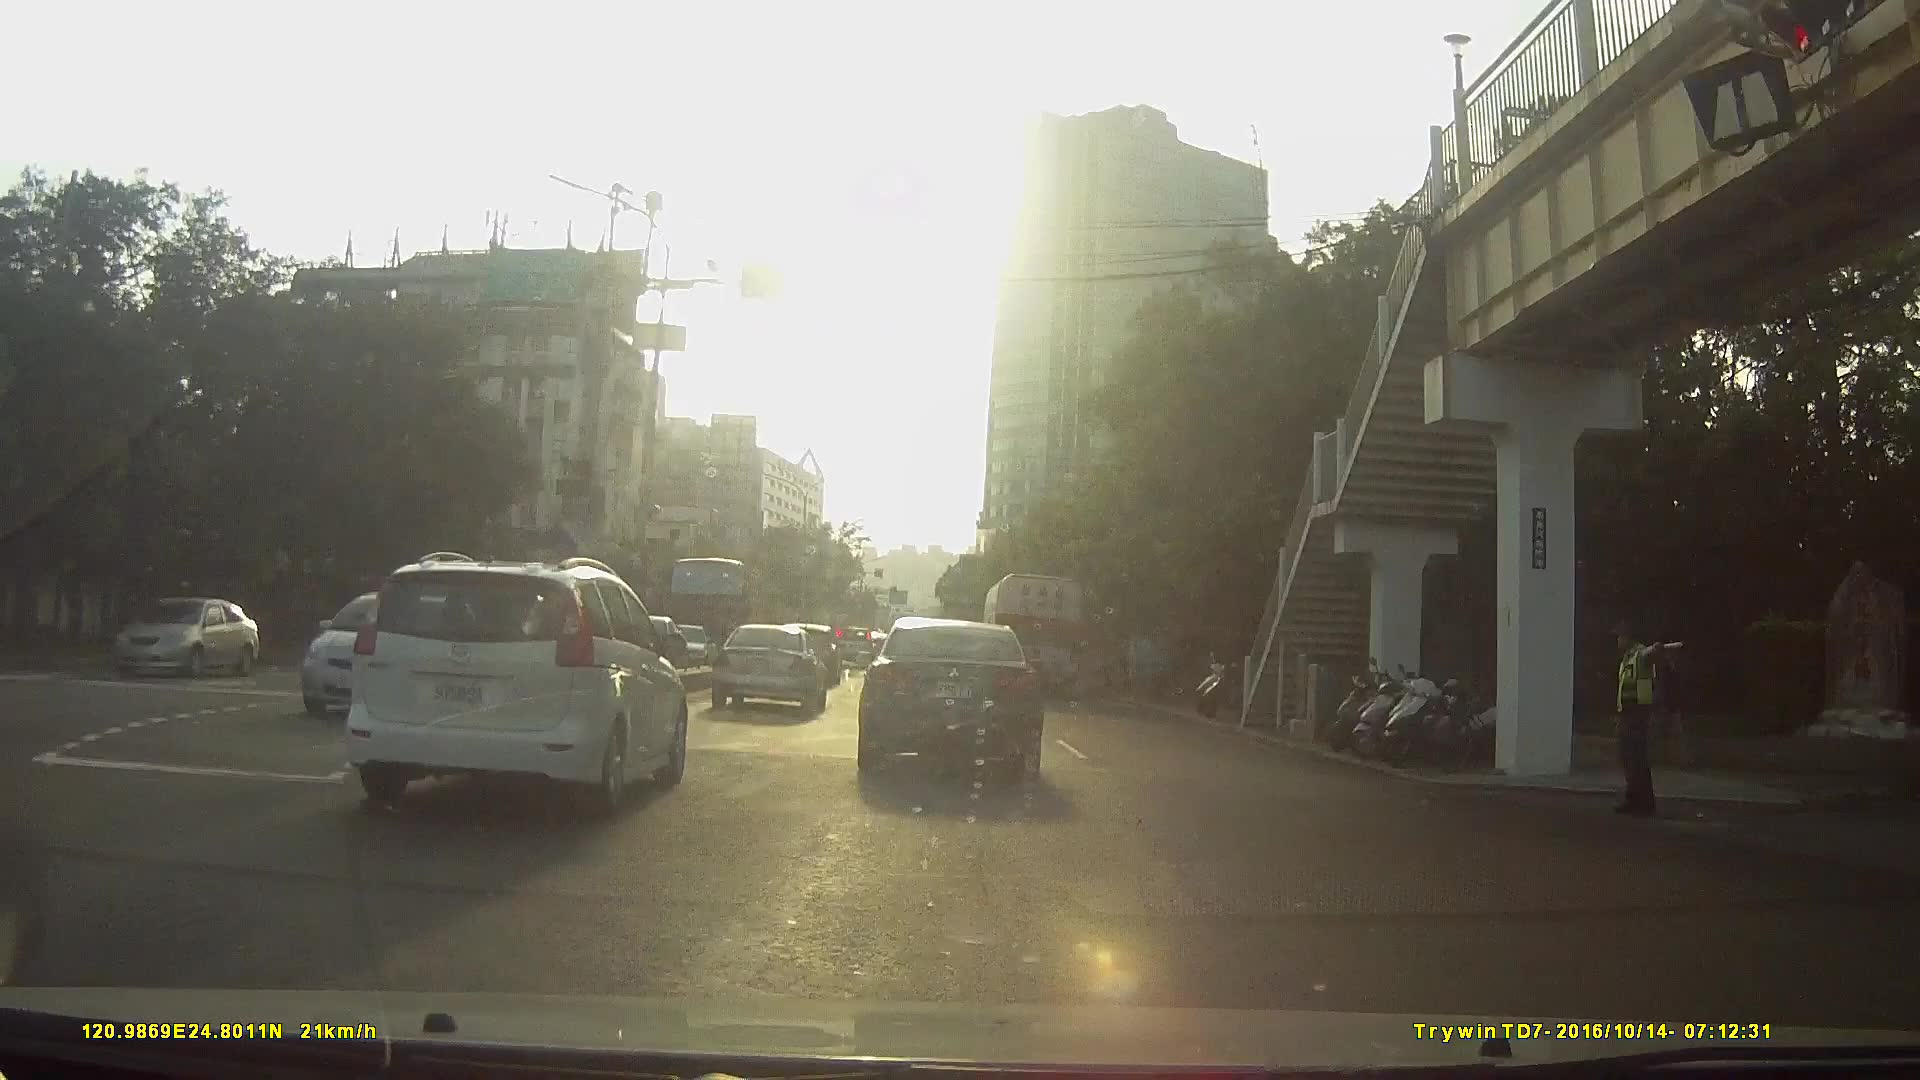pedestrian: (1602, 611, 1688, 818)
vehicle: (250, 556, 684, 868), (350, 550, 692, 814), (855, 612, 1044, 784), (283, 587, 468, 736), (110, 591, 277, 686), (976, 571, 1086, 703), (659, 554, 772, 662), (711, 621, 829, 715), (828, 621, 876, 666)
